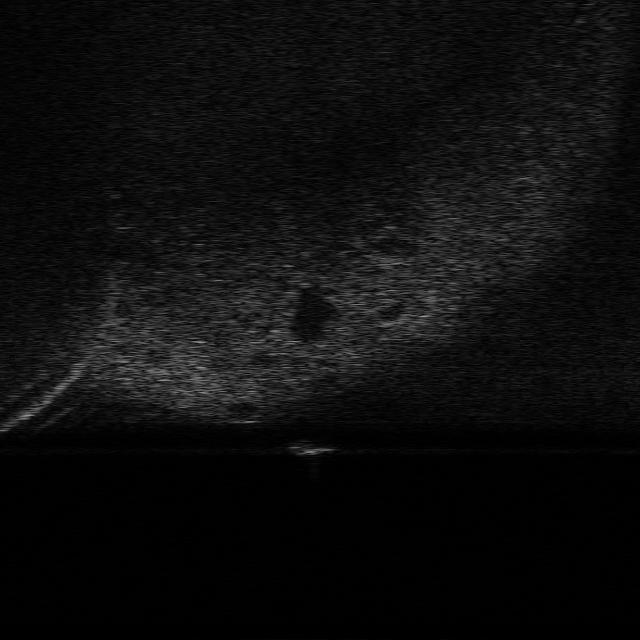cube: (284, 438, 338, 459)
